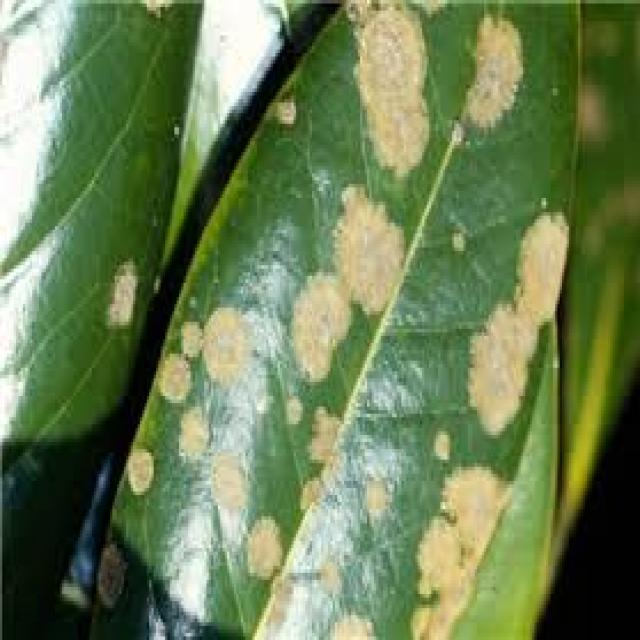leaf_spot: (151, 0, 556, 632)
